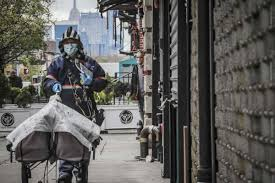mask: (55, 24, 88, 62)
